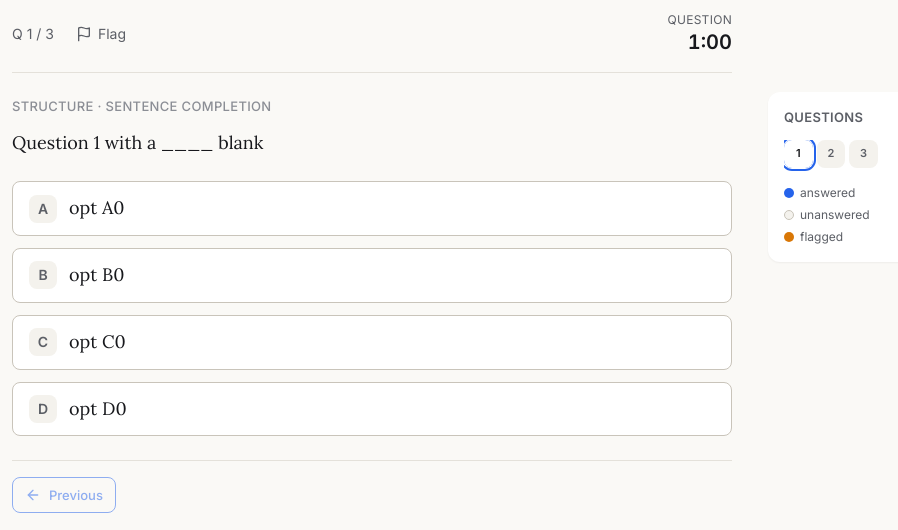
Test case: QuizPerQuestion › jumps to any question from the palette
The image size is (898, 530).
Step 1. Click the button named "Question 3, unanswered" → (863, 154), box [849,140,878,168]
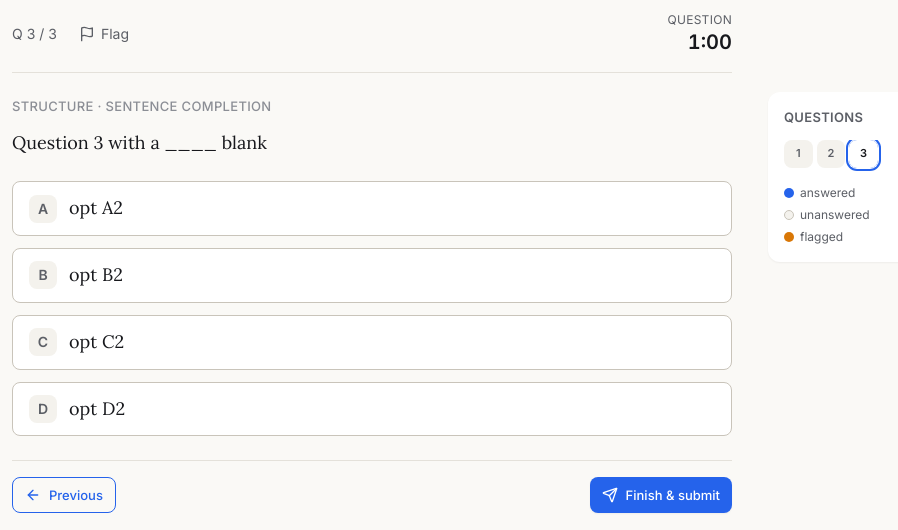
Now the text "Q 3 / 3" is shown, box [12,24,57,44]
